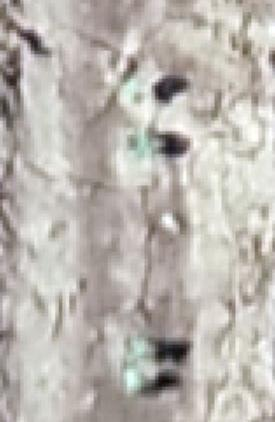cotton: (134, 133, 152, 154), (128, 372, 144, 394), (134, 339, 153, 354), (126, 81, 137, 101)
